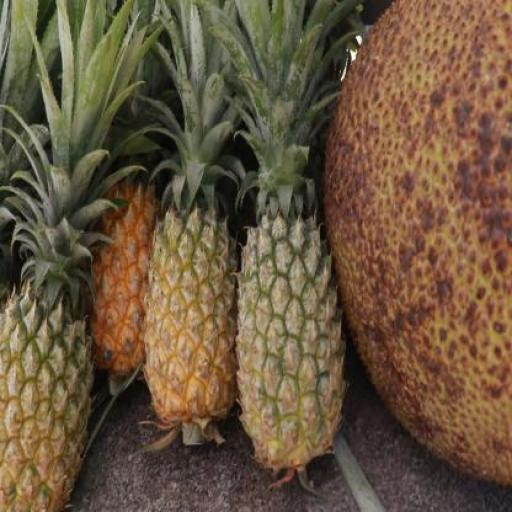------------------------------: (1, 286, 94, 510)
Pineapple - v8 v1: (148, 207, 243, 428), (90, 170, 167, 376)
